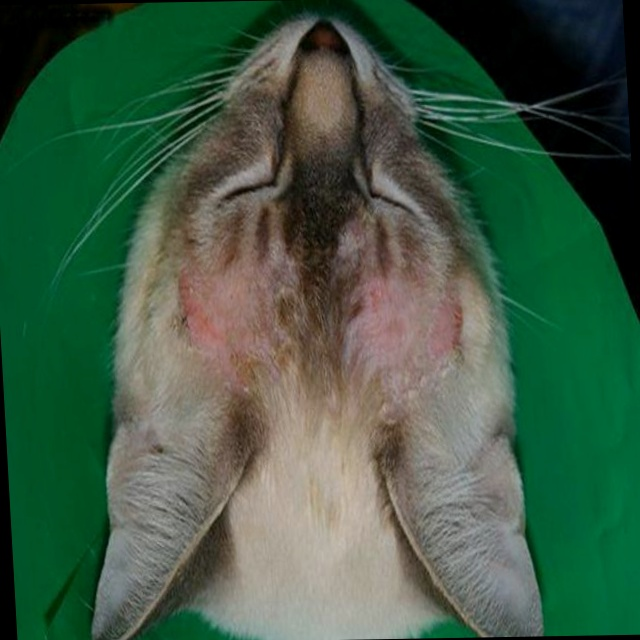ringworm: (351, 274, 466, 379), (172, 259, 275, 359)
